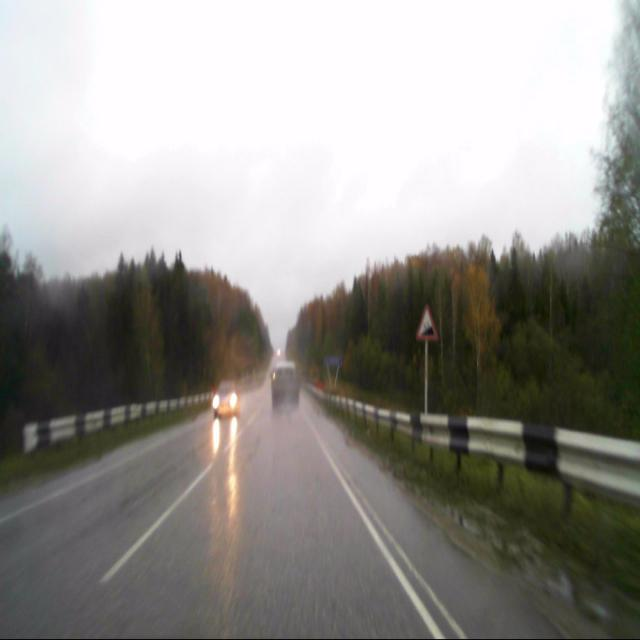object: (423, 342, 428, 413)
road sign: (416, 304, 439, 340)
